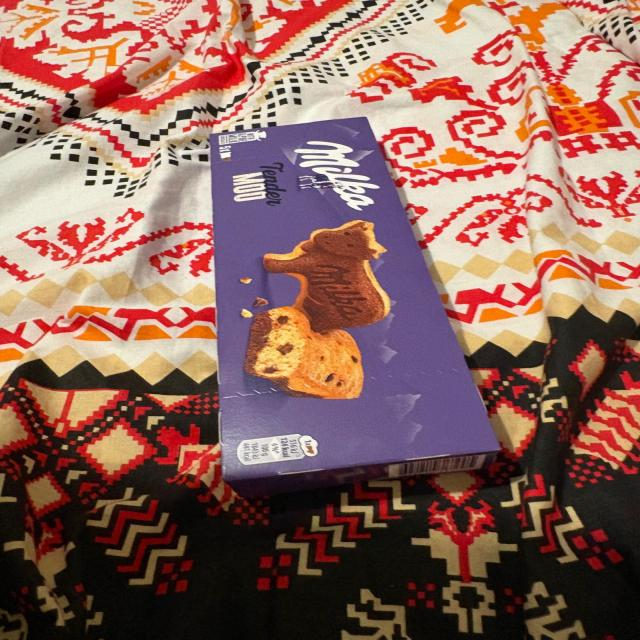good_package: (208, 117, 500, 499)
